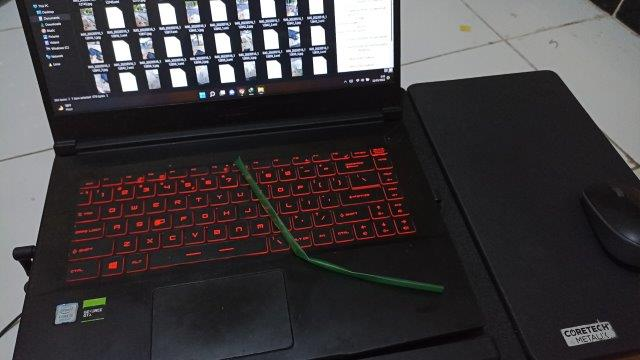sedotan: (235, 158, 443, 293)
